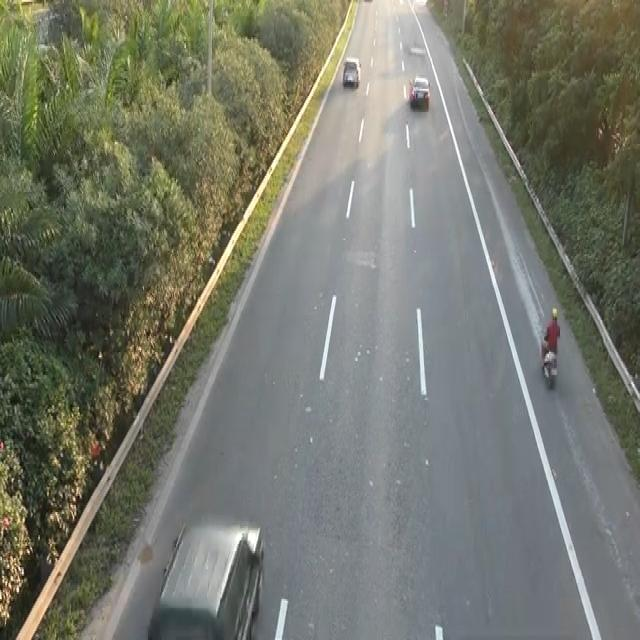bus: (146, 512, 266, 636), (408, 73, 430, 110), (341, 53, 361, 89)
minibus: (538, 331, 559, 389)
